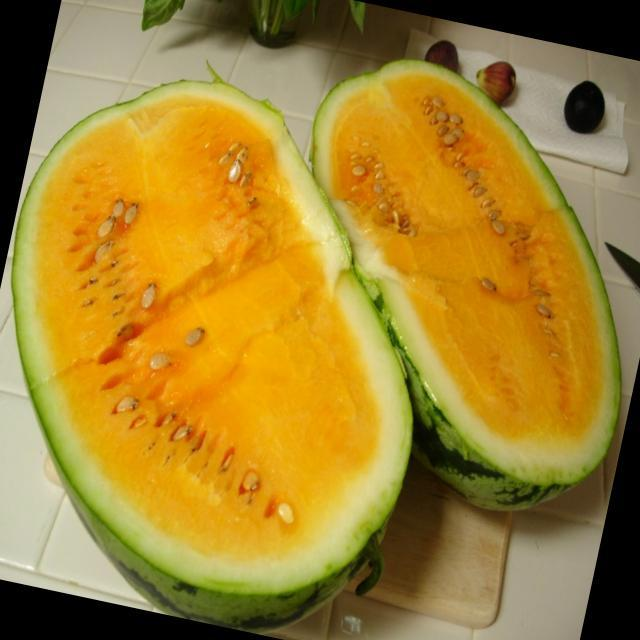WATERMELON: (0, 49, 478, 632), (240, 37, 640, 513)
